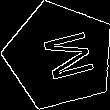M_W: (28, 27, 91, 85)
